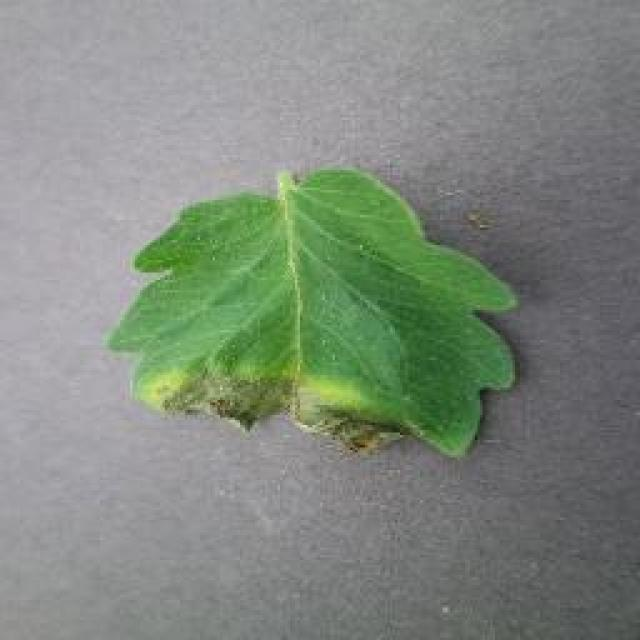Tomato Late Blight: (142, 382, 455, 515)
